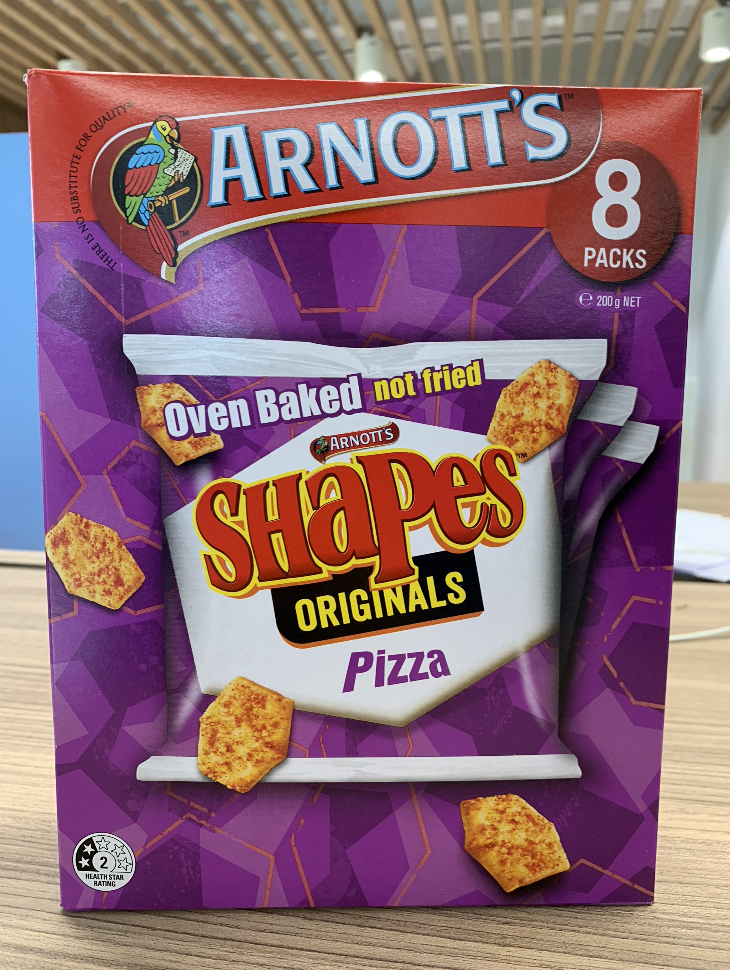crackers_200g-299g: (77, 97, 651, 899)
